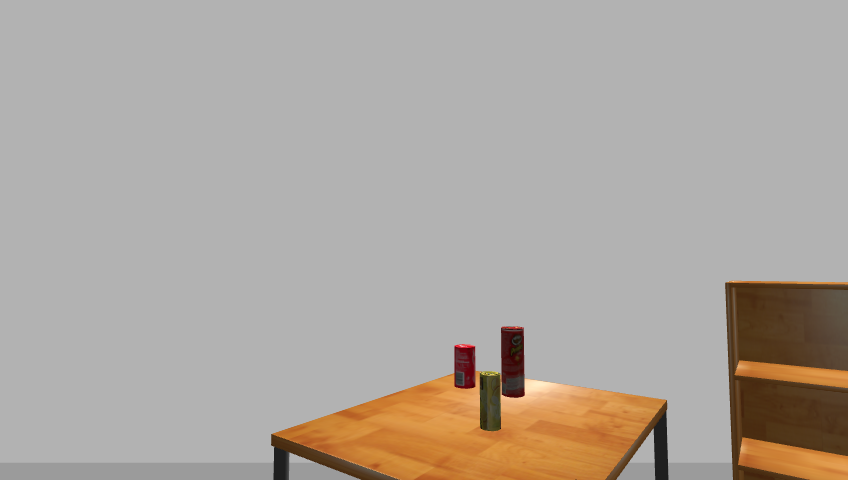biscuits pack: (479, 371, 503, 432)
bookshelf: (719, 278, 848, 479)
coke can: (452, 344, 477, 390)
dinner table: (264, 374, 679, 480)
pringles can: (499, 326, 527, 400)
